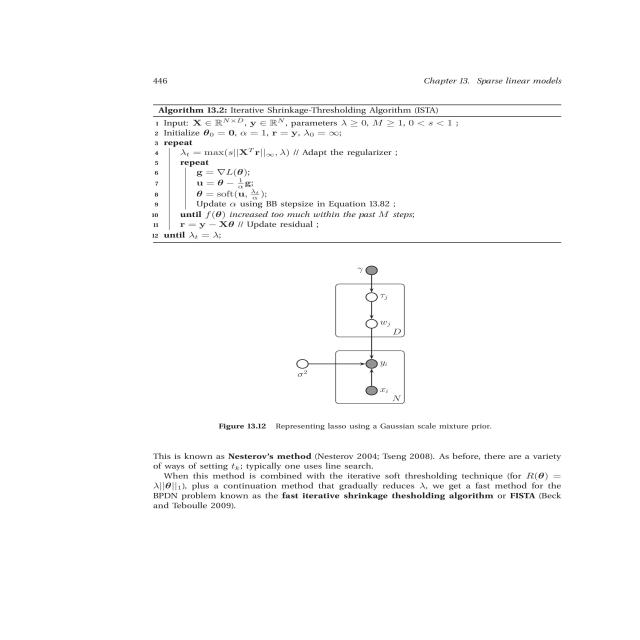diagram: (129, 240, 599, 442)
